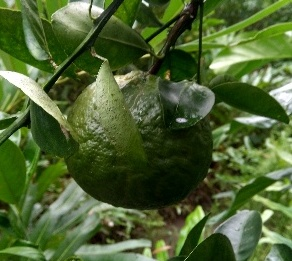Cam: (55, 68, 216, 212)
